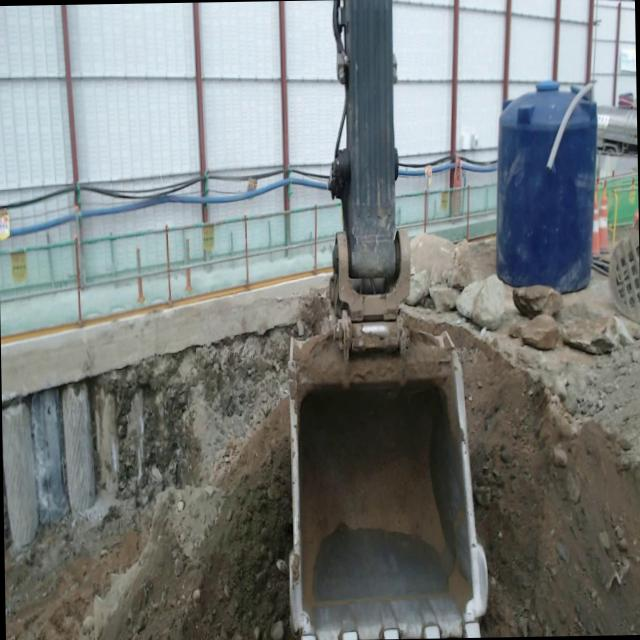red-sand: (4, 396, 298, 640), (461, 334, 640, 637)
stone: (405, 232, 471, 304), (558, 315, 633, 354), (455, 274, 504, 329), (512, 285, 562, 318), (519, 314, 561, 349), (429, 284, 459, 311)
